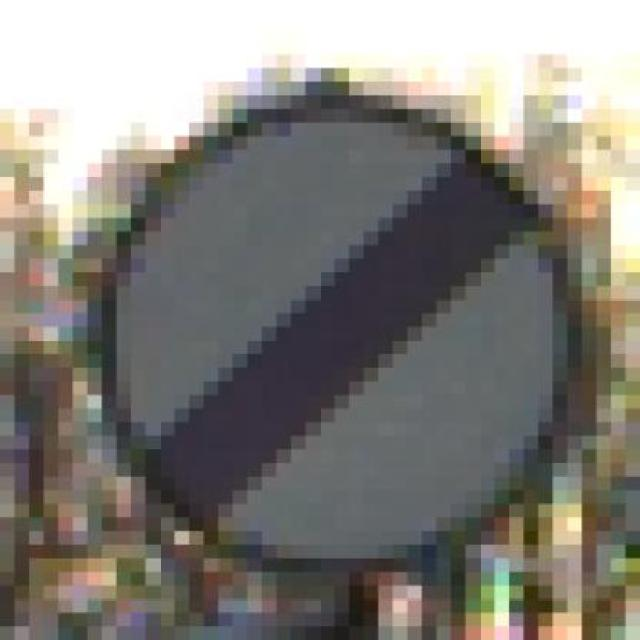End of all speed and passing limits: (87, 54, 596, 586)
